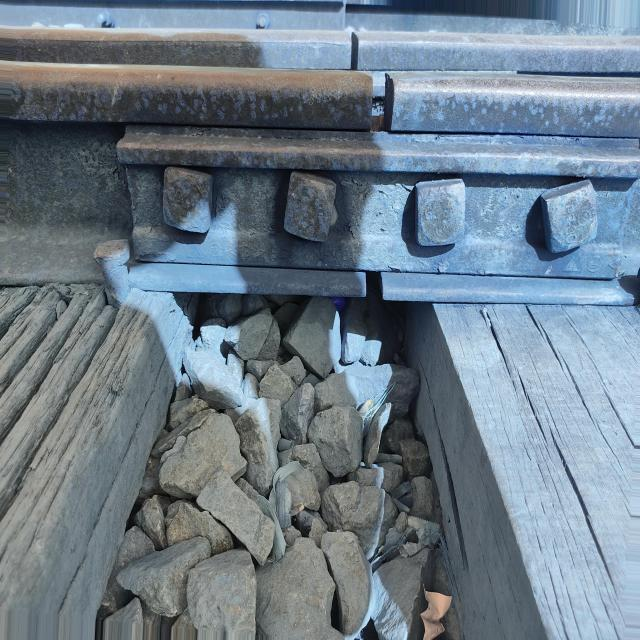crack: (334, 73, 418, 147), (337, 267, 402, 332), (336, 0, 374, 78)
